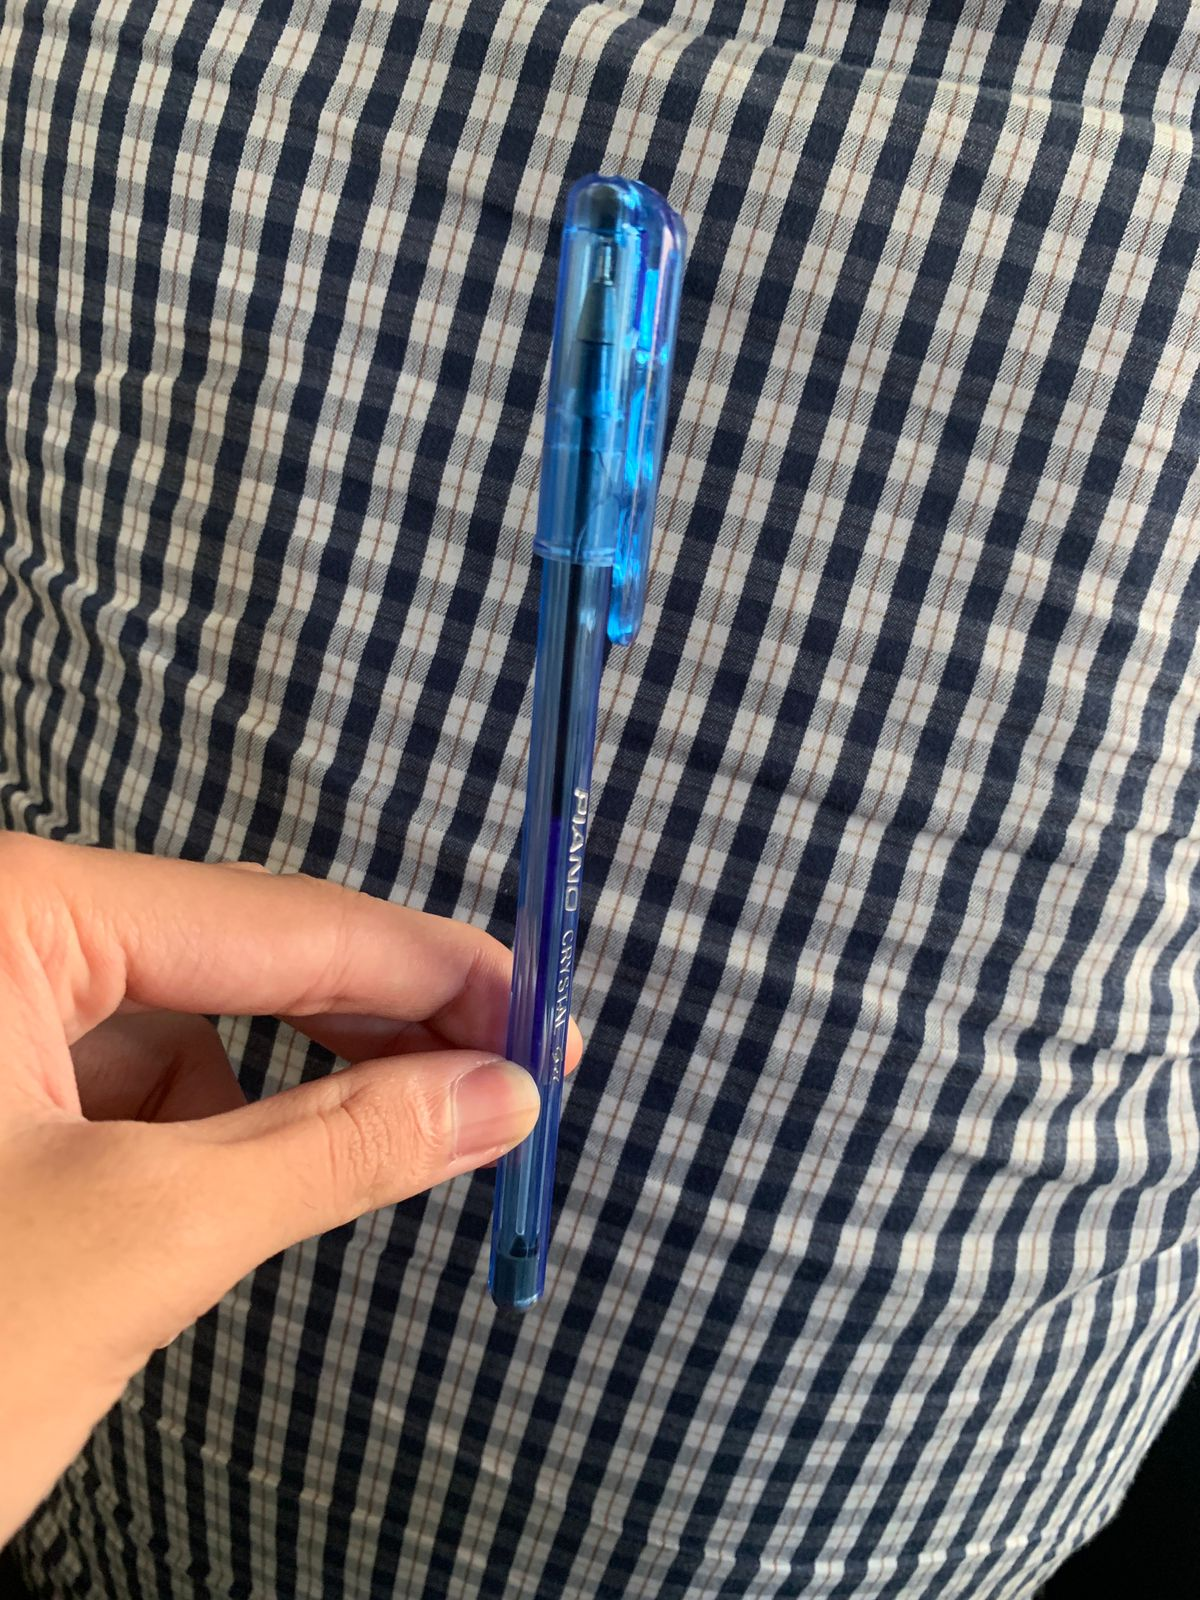pen: (367, 141, 790, 1443)
